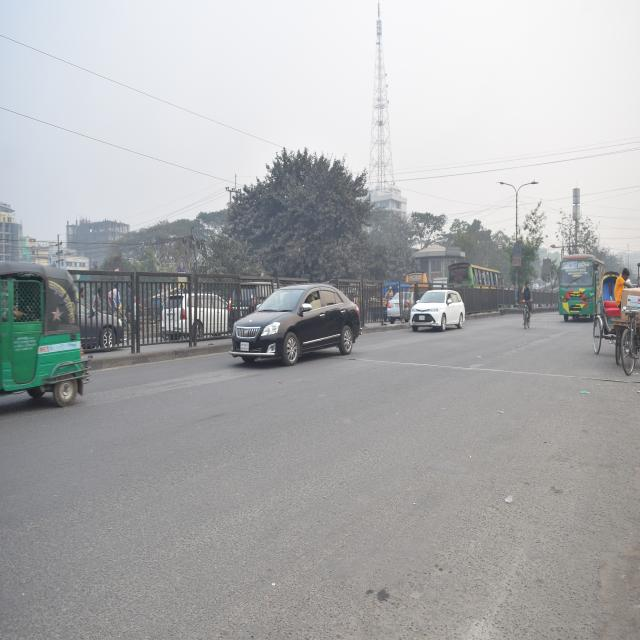bus: (541, 248, 603, 328)
car: (217, 247, 375, 380), (401, 265, 473, 348)
